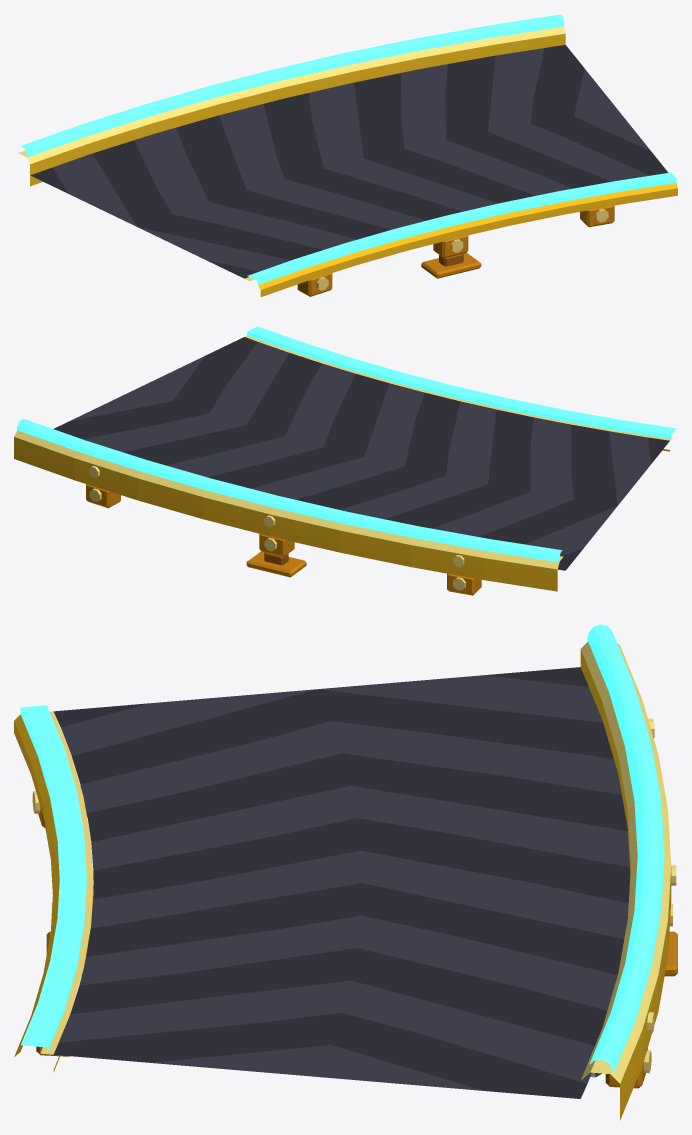
File: ConveyorSegment.glb
3 renders of one model, top to bottom at view 1: azimuth 30°, elevation 25°; view 2: azimuth 150°, elevation 25°; view 3: azimuth 270°, elevation 25°, orthographic. The views are drawn at different scales.
Parts seen in each view (by area): view 1: Belt, Frame, RailOuter, RailInner; view 2: Belt, Frame, RailOuter, RailInner; view 3: Belt, Frame, RailOuter, RailInner.
Part boxes in pixels (<box>): Belt: <box>30,44,668,278</box>; Frame: <box>18,26,677,297</box>; RailOuter: <box>19,14,564,157</box>; RailInner: <box>247,172,676,284</box>; Belt: <box>54,337,669,570</box>; Frame: <box>14,335,672,595</box>; RailOuter: <box>16,419,562,562</box>; RailInner: <box>247,326,676,438</box>; Belt: <box>53,667,630,1098</box>; Frame: <box>14,641,677,1120</box>; RailOuter: <box>587,624,664,1073</box>; RailInner: <box>20,705,86,1053</box>.
Size of the model in its own units: 30.9 by 3.85 by 19.77.
2 materials, 1 textured.
